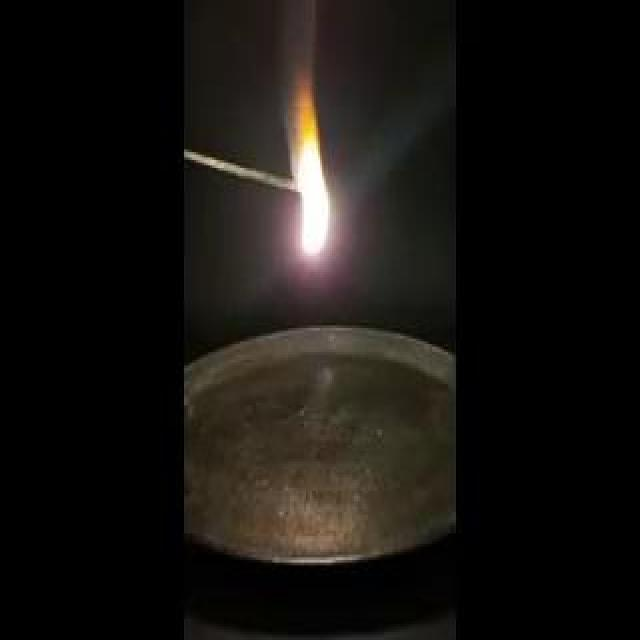Fire: (50, 170, 314, 184)
